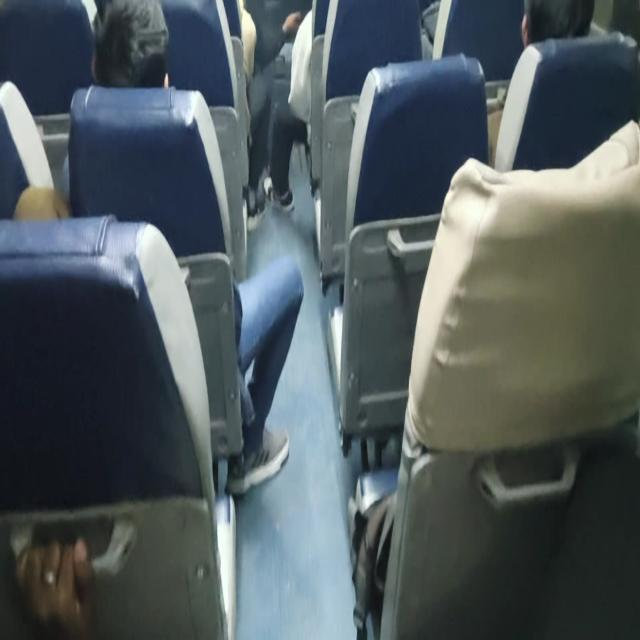person: (95, 0, 175, 73), (518, 0, 602, 52)
